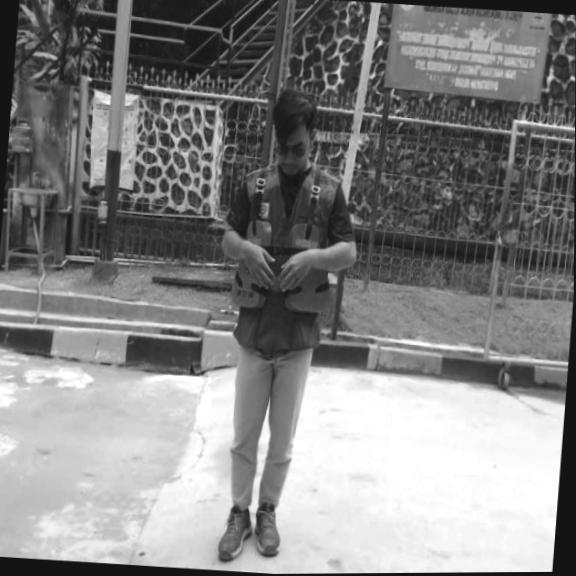safety_vest: (222, 216, 336, 316)
